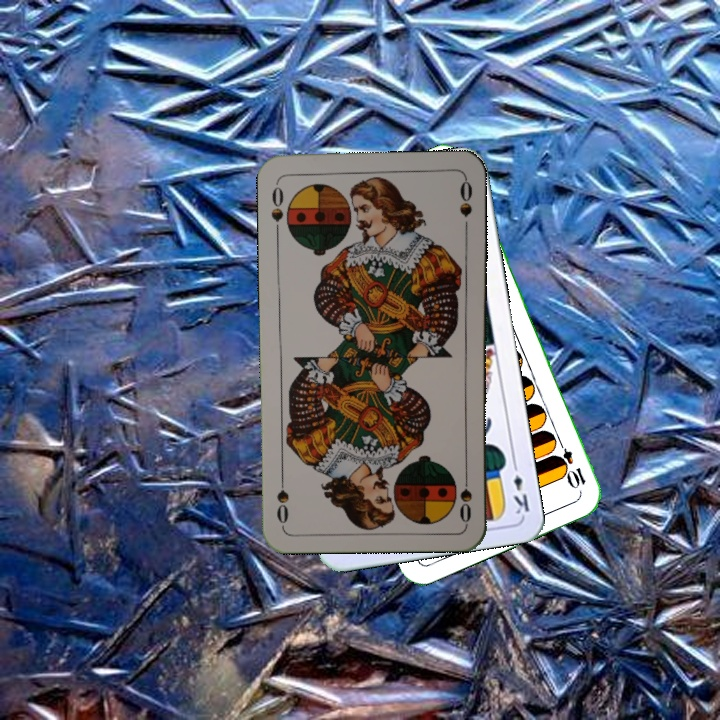E10: (549, 435, 589, 492)
EK: (508, 457, 532, 517)
SO: (456, 466, 475, 525), (267, 178, 286, 237)
